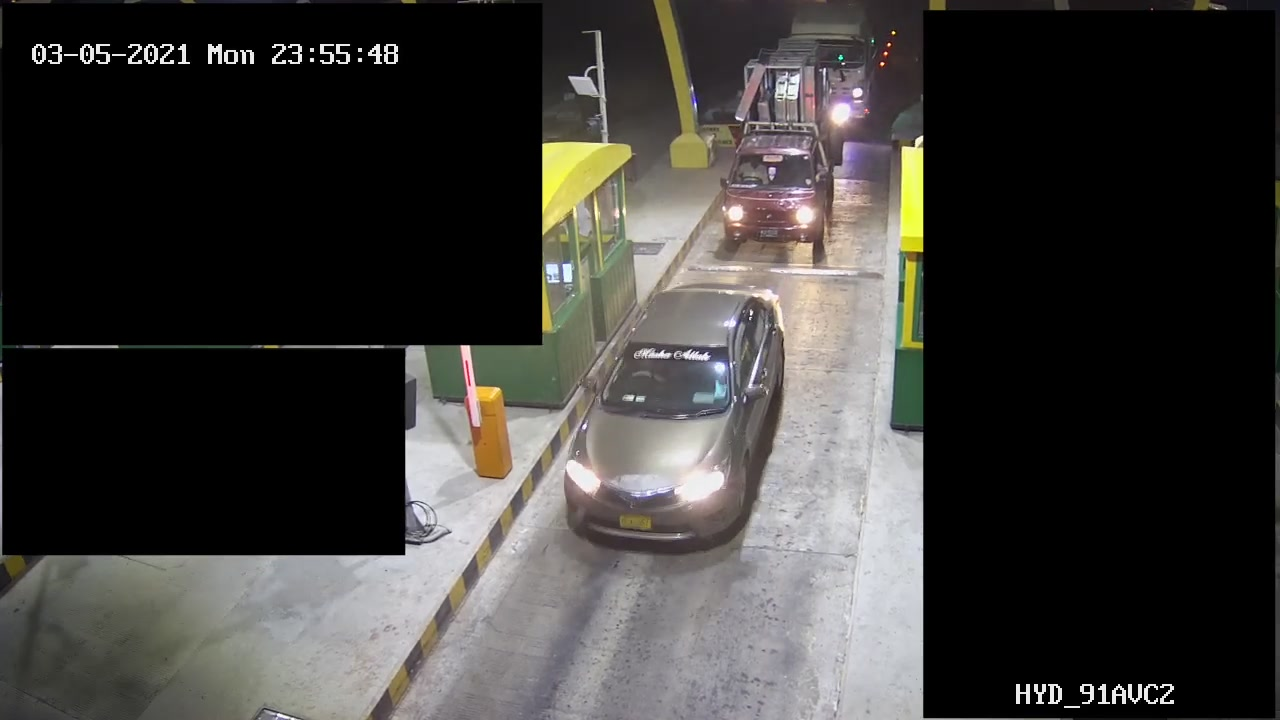F1: (548, 277, 793, 552)
F2: (716, 38, 843, 259)
